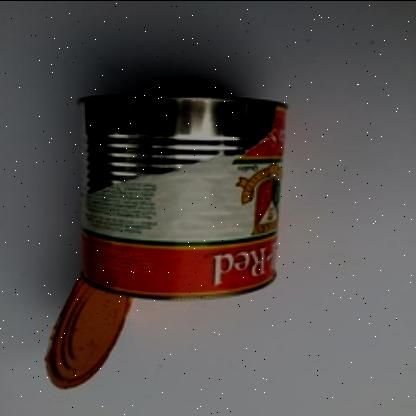Can: (78, 90, 284, 300), (44, 277, 132, 389)
